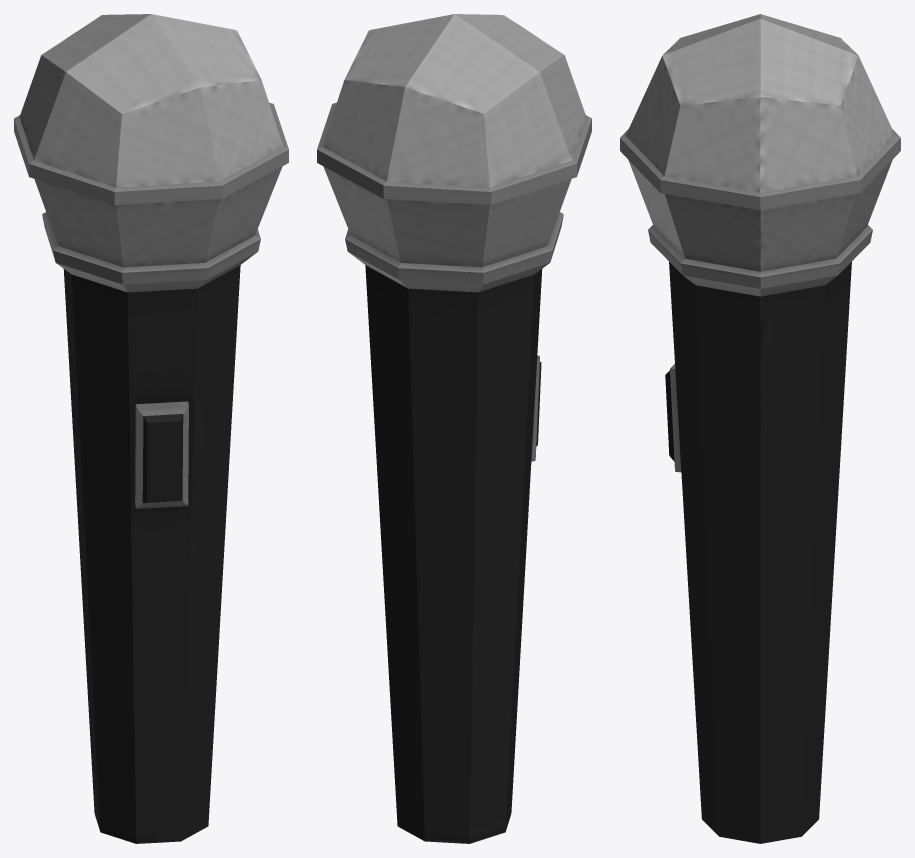
Rendered from microphone.glb.
3 renders of one model, left to right at view 1: azimuth 30°, elevation 25°; view 2: azimuth 150°, elevation 25°; view 3: azimuth 270°, elevation 25°, orthographic.
Parts seen in each view (by area): view 1: Microphone_mesh; view 2: Microphone_mesh; view 3: Microphone_mesh.
Boxes of the visible parts, x1=… form: Microphone_mesh: x1=14, y1=14, x2=288, y2=843; Microphone_mesh: x1=317, y1=14, x2=591, y2=843; Microphone_mesh: x1=620, y1=14, x2=900, y2=843.
Size of the model in its own units: 3.54 by 11.14 by 3.54.
1 material, 1 textured.
